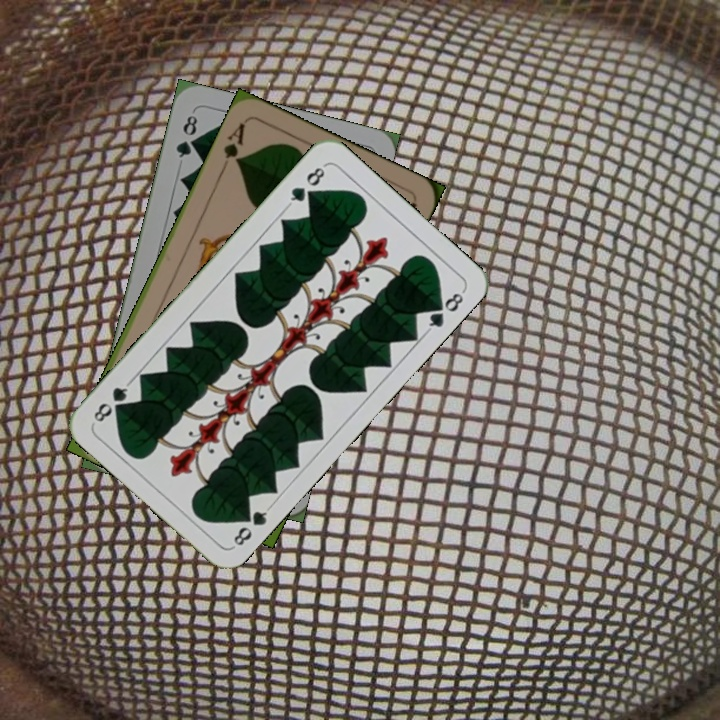G8: (284, 161, 329, 209), (229, 502, 274, 549), (171, 111, 200, 161)
GA: (217, 119, 248, 174)
